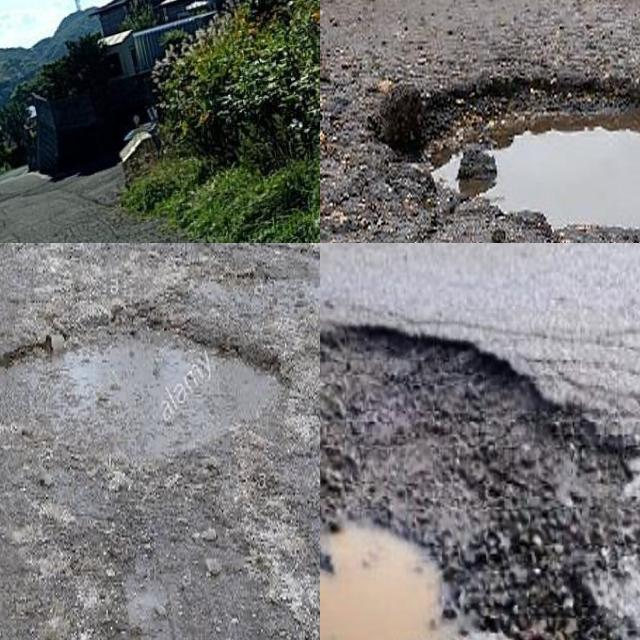Lubang: (320, 313, 630, 640), (0, 311, 285, 486), (401, 76, 640, 243)
